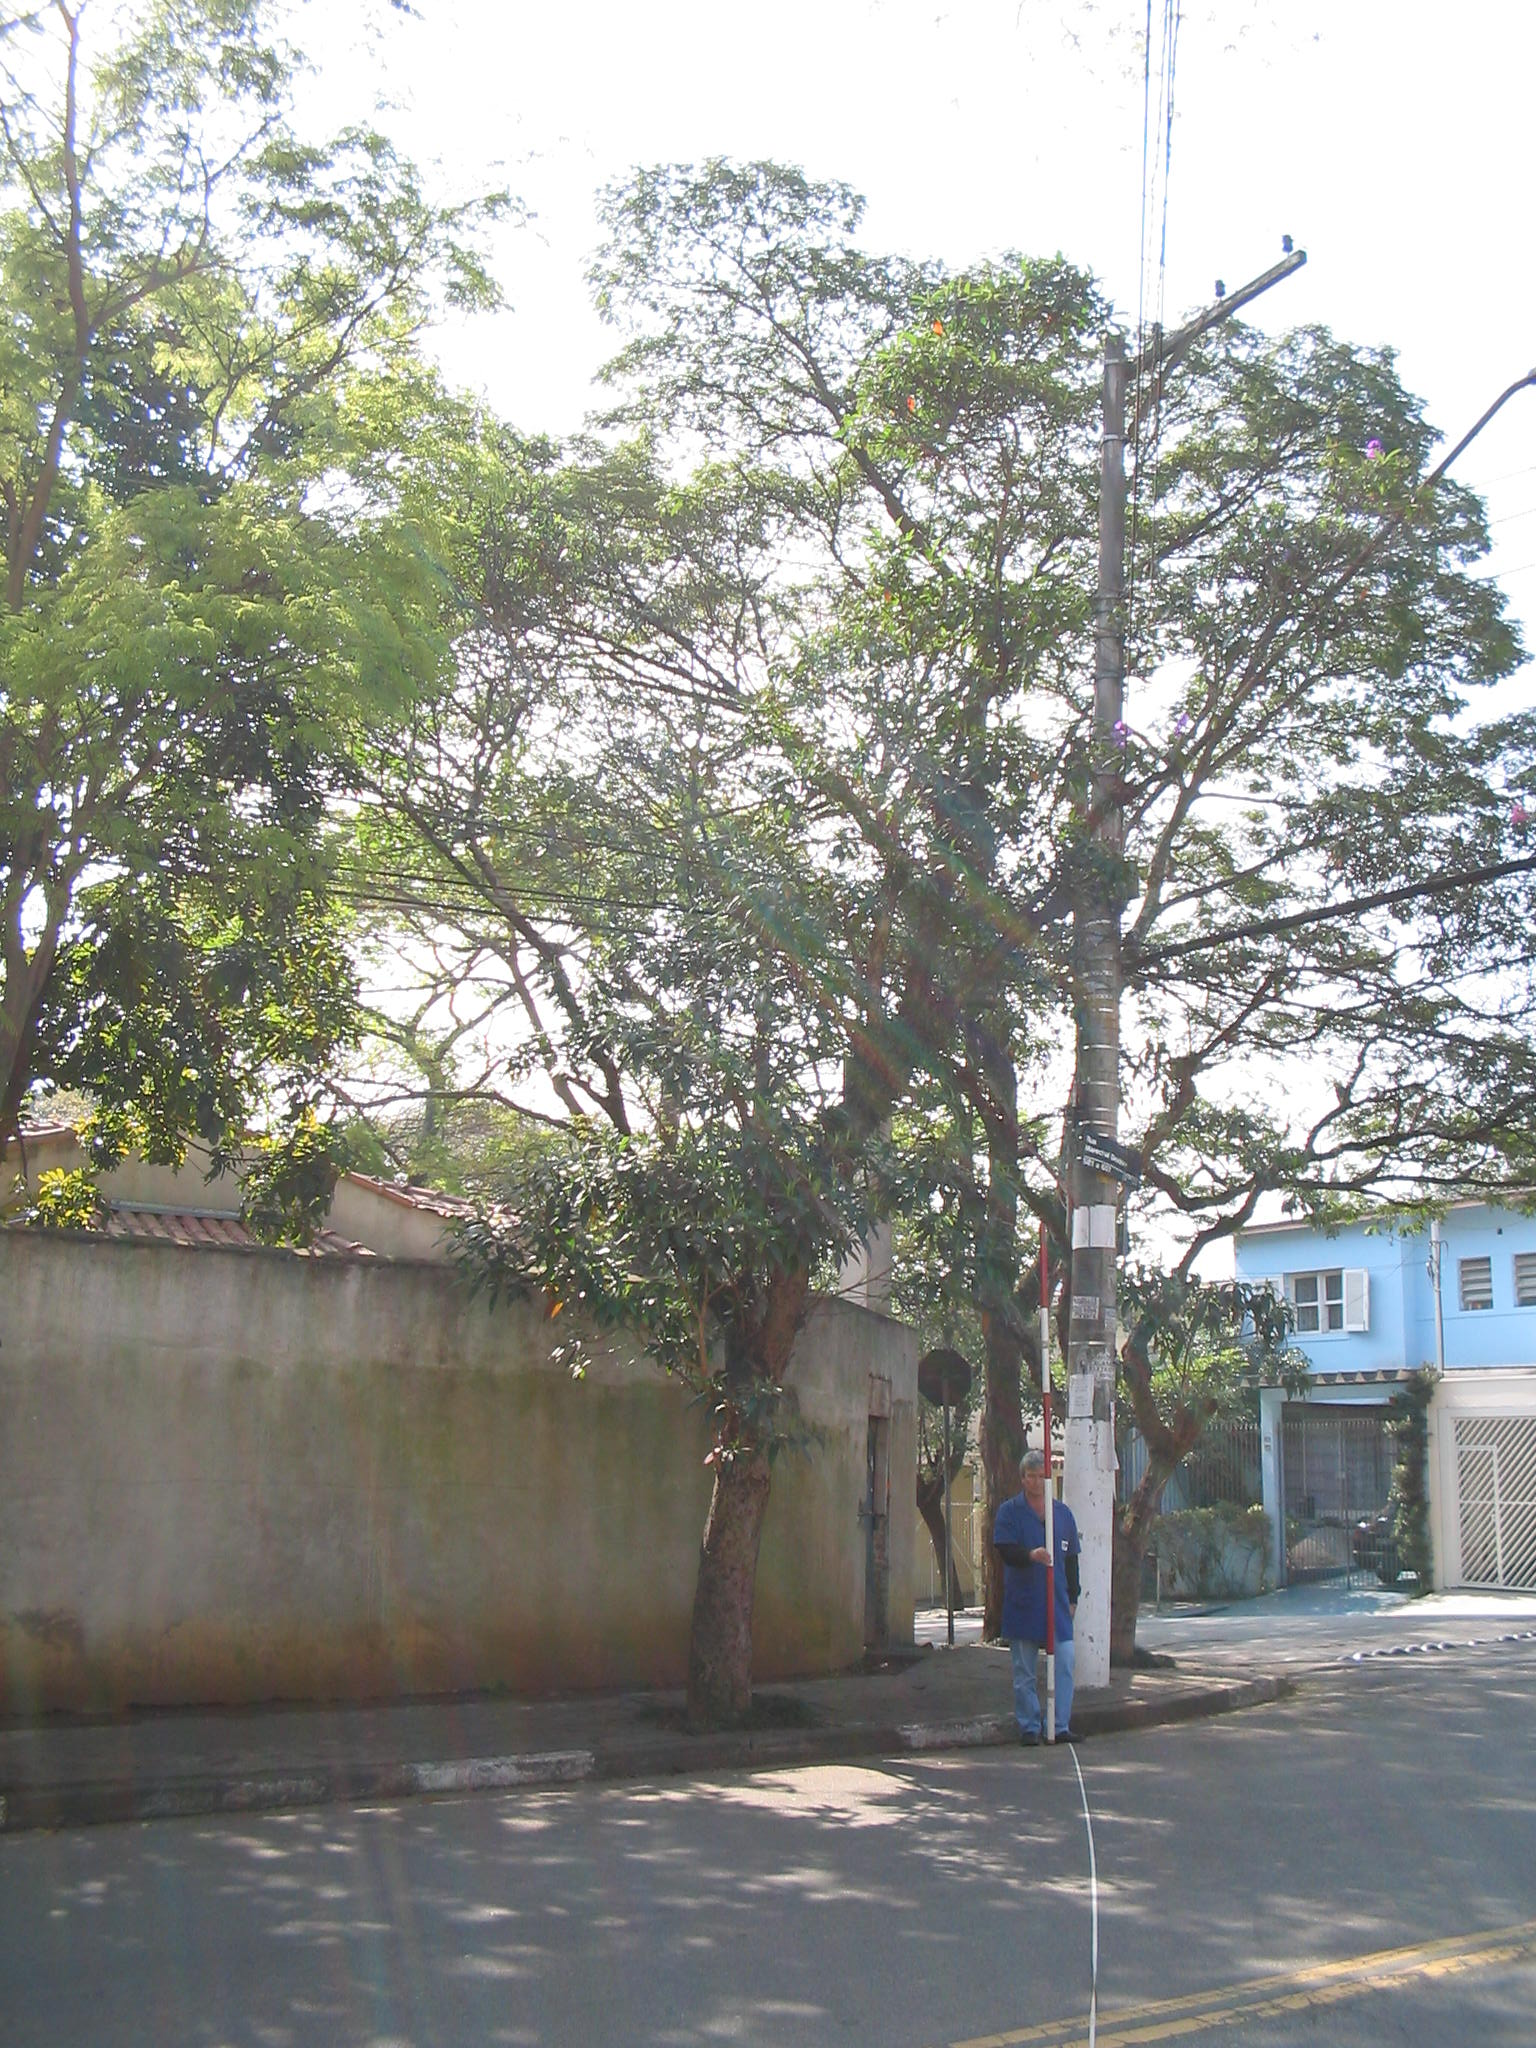crown: (21, 156, 1521, 1338)
stem: (657, 1367, 821, 1719)
stick: (1028, 1218, 1071, 1737)
tree: (21, 152, 1533, 1722)
